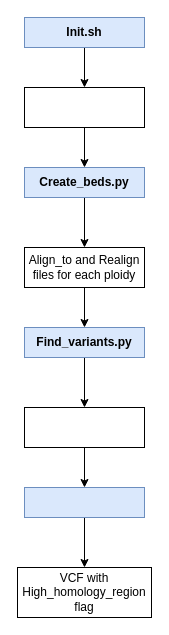
The diagram is 169 pixels wide and 635 high, and some of its shapes have lost their labels. The centre of each missing label's shape, as x and y in pixels:
Blast database Pseudogene fasta file: pixel 84 107
Find_hom_zones.py: pixel 84 502
VCF with variants: pixel 84 427
